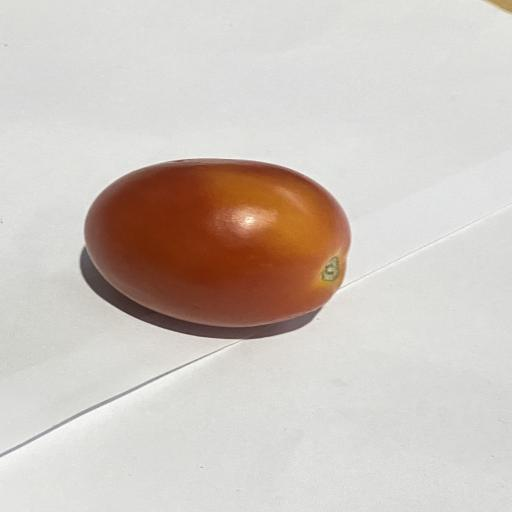ripe: (85, 159, 350, 327)
